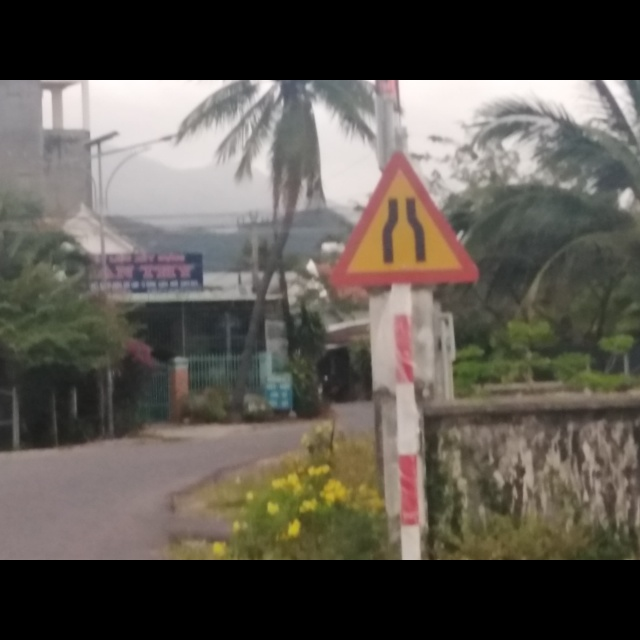Đường bị hẹp cả hai bên: (327, 148, 478, 284)
